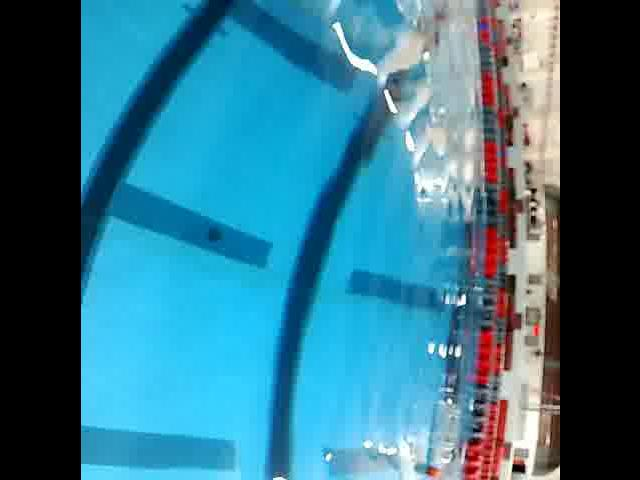Bottle: (415, 397, 468, 480)
